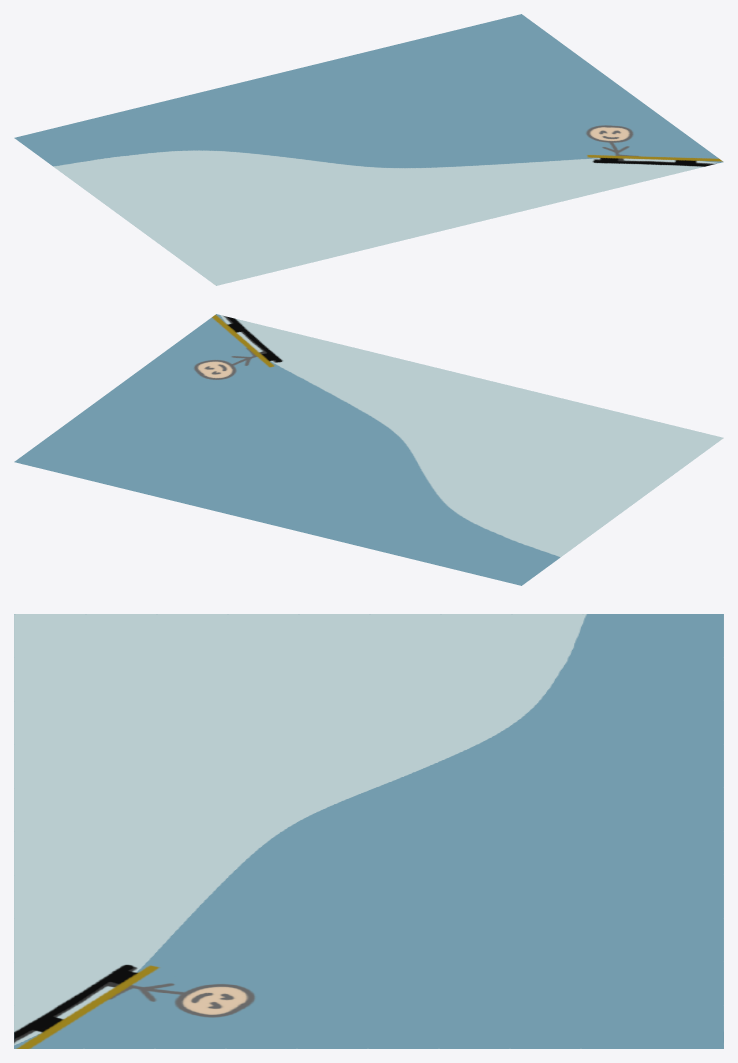
File: WinterAnim10.fbx
The picture shows the model from 3 angles, top to bottom: view 1: azimuth 30°, elevation 25°; view 2: azimuth 150°, elevation 25°; view 3: azimuth 270°, elevation 25°; orthographic projection. The views are drawn at different scales.
Parts seen in each view (by area): view 1: pPlane1; view 2: pPlane1; view 3: pPlane1.
Part boxes in pixels (<box>): pPlane1: <box>14,14,723,285</box>; pPlane1: <box>14,314,723,585</box>; pPlane1: <box>14,614,723,1048</box>.
Bounding box in the file's own units: 7.78 × 5.08e-16 × 5.37.
Materials: 1 (1 with a texture image).
